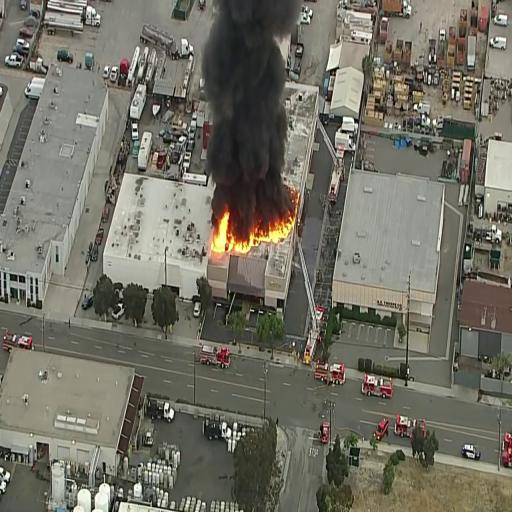fire: (214, 0, 277, 203), (241, 210, 295, 244), (212, 203, 230, 253)
